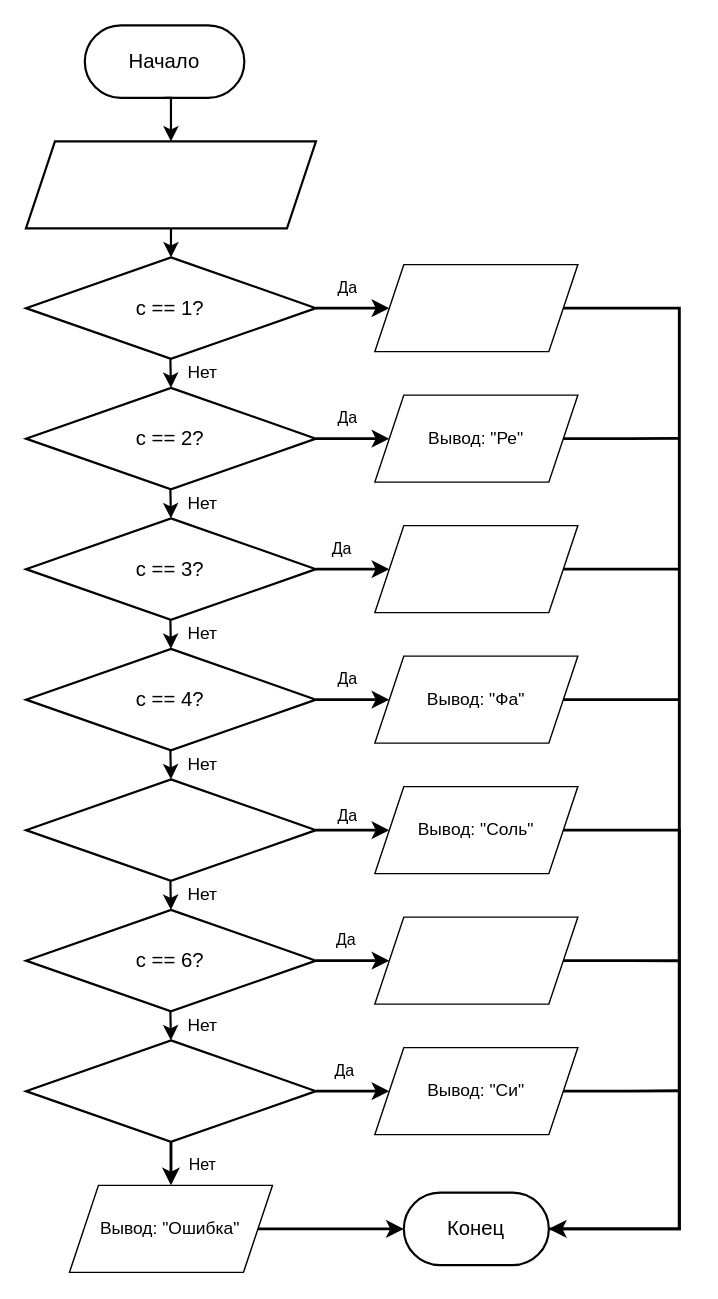
This 718x1299 diagram has some shape labels left out. The centre of each missing label's shape, as x and y in pixels:
Ввести с номер ноты (1-7): (170,184)
Вывод: "До": (475,307)
Вывод: "Ля": (475,960)
Вывод: "Ми": (475,568)
с == 5?: (170,829)
с == 7?: (170,1090)
